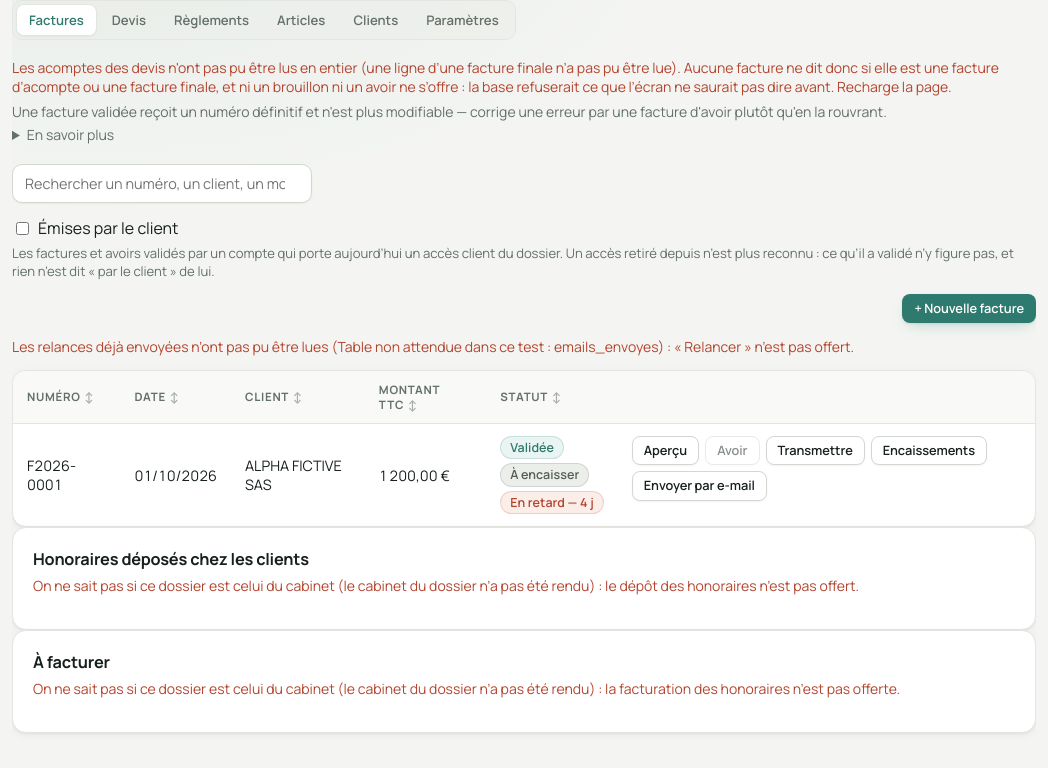
Scenario: Devis dans l’onglet Factures — cabinet › la liste lue : le numéro ou « Brouillon », le client, le total et l’état déduit ; rien d’un autre dossier
The image size is (1048, 768).
expect the text "F2026-0001" is shown: met, box [27, 456, 76, 494]
Click the tab "Devis".
click(129, 20)  # box [99, 4, 159, 36]
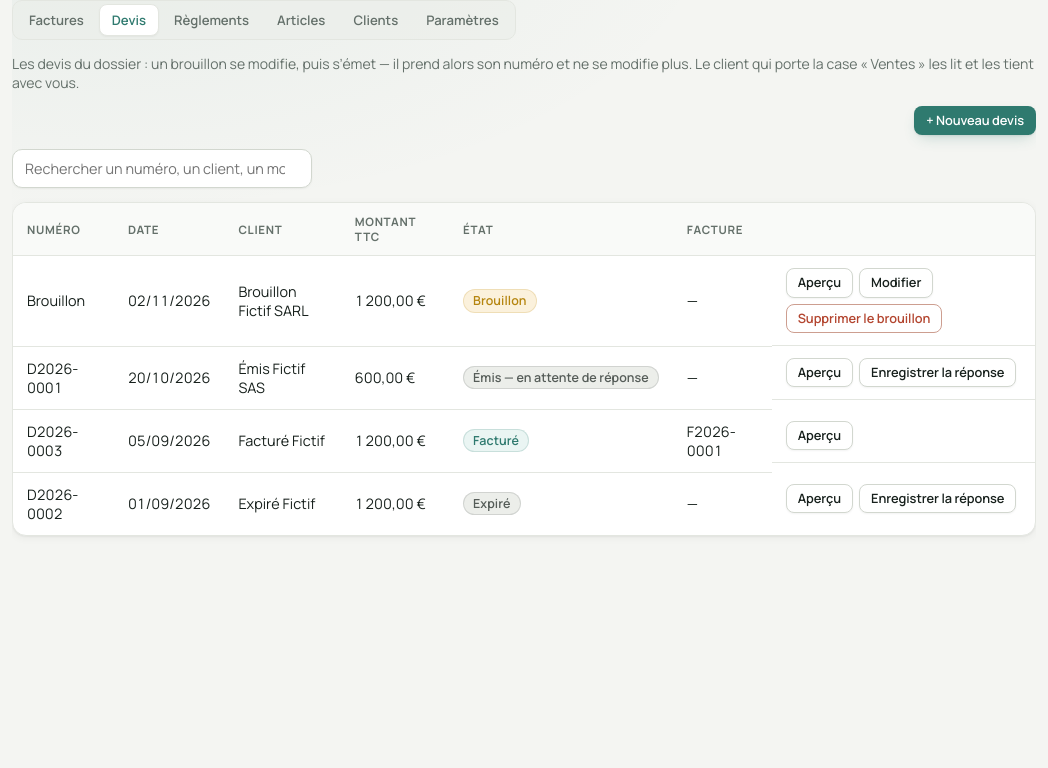
expect the number of rows is 5: met, box [13, 203, 1035, 256]; [13, 256, 1035, 346]; [13, 346, 1035, 409]; [13, 409, 1035, 472]; [13, 472, 1035, 534]
expect the text "Brouillon" is shown: met, box [463, 289, 537, 313]
expect the button "Supprimer le brouillon" is shown: met, box [786, 304, 942, 333]
